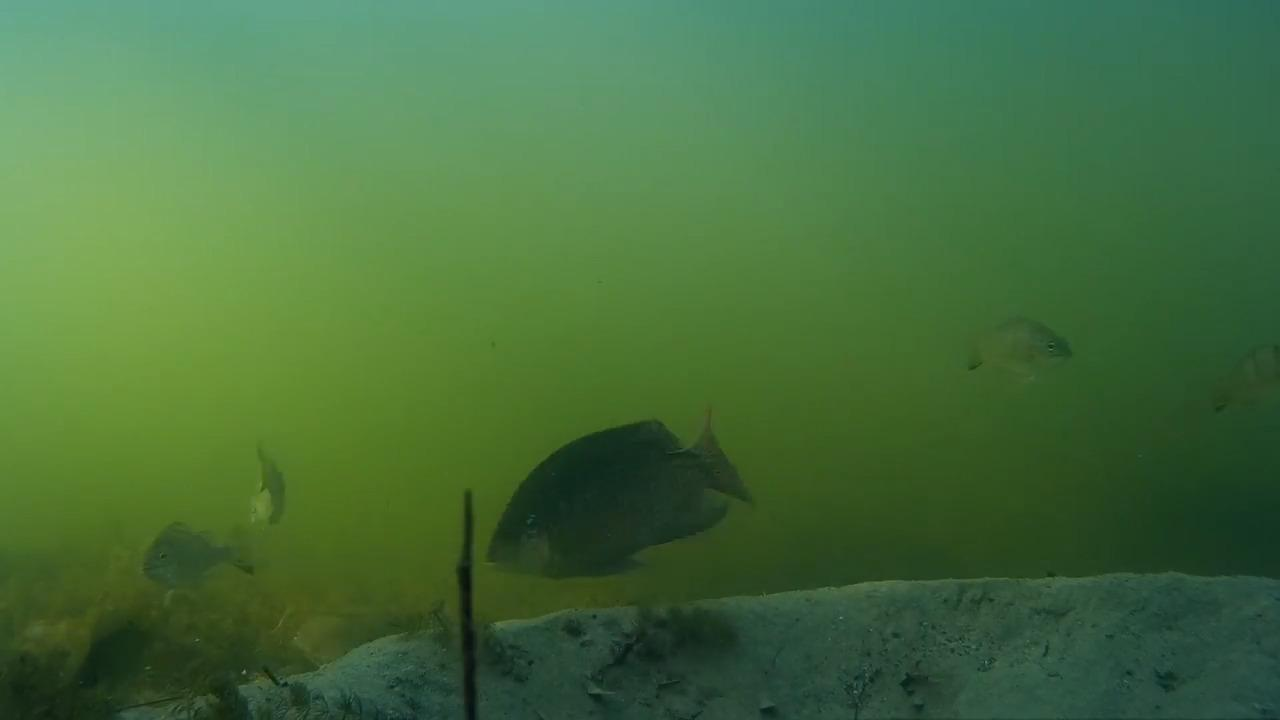Tilapia: (488, 409, 768, 588), (959, 312, 1083, 382), (1185, 326, 1280, 416), (243, 442, 314, 530)
